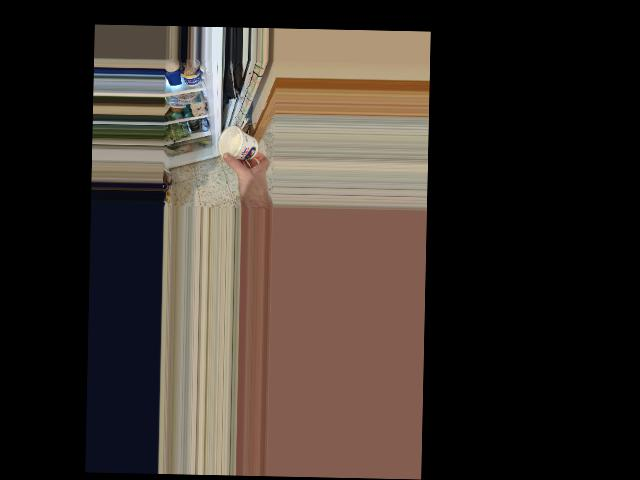cotage: (224, 128, 257, 159)
